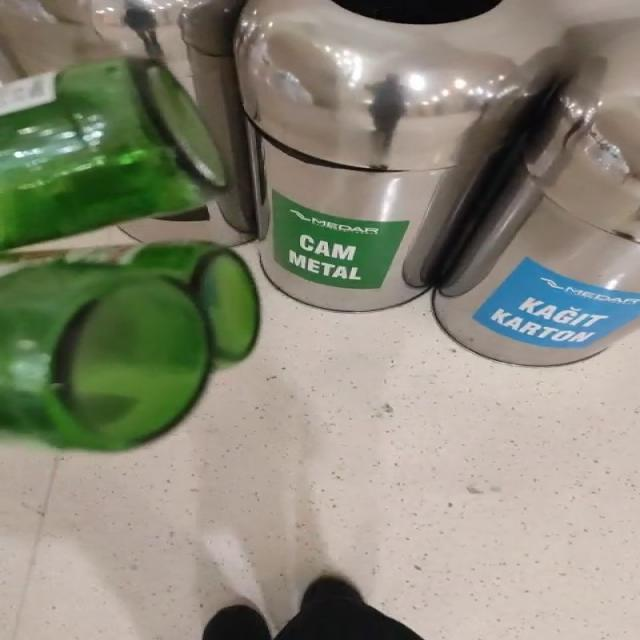bin: (235, 0, 639, 366)
glass: (3, 244, 259, 450), (1, 57, 225, 249)
